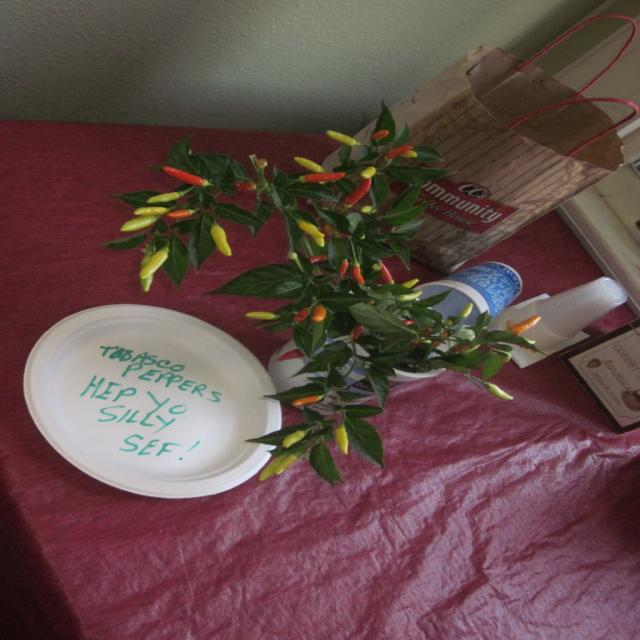non-organic waste: (9, 313, 340, 545)
